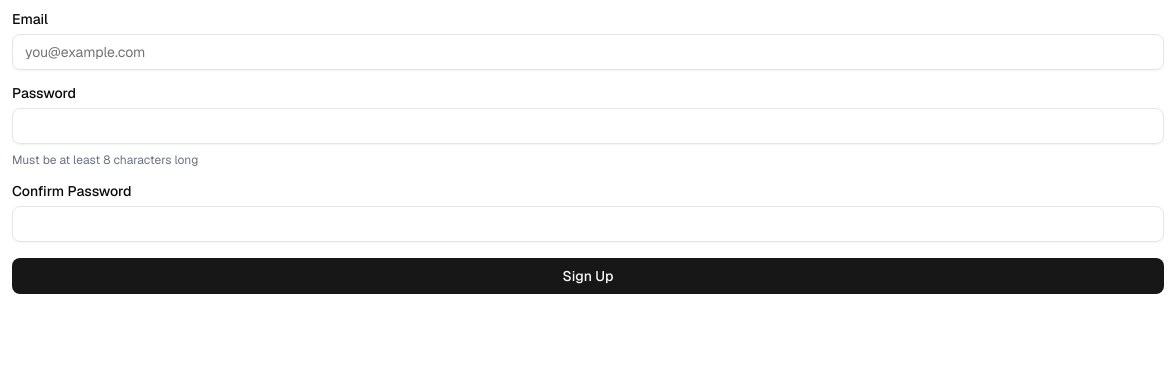
Test: SignUpForm - error handling › shows error message from server on failure
Type "pass1234" into the password field labelled "Password" at (588, 126), box x1=12 y1=108 x2=1164 y2=144
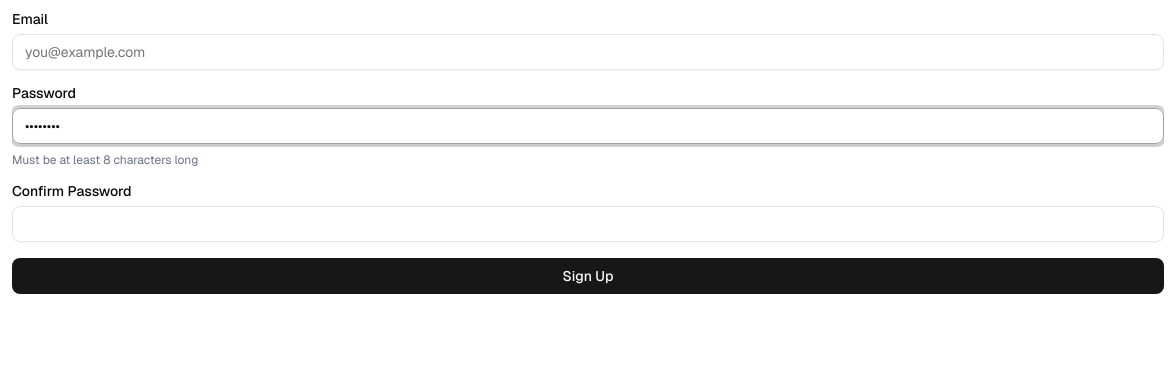
Type "pass1234" into the password field labelled "Confirm Password" at (588, 224), box x1=12 y1=206 x2=1164 y2=242
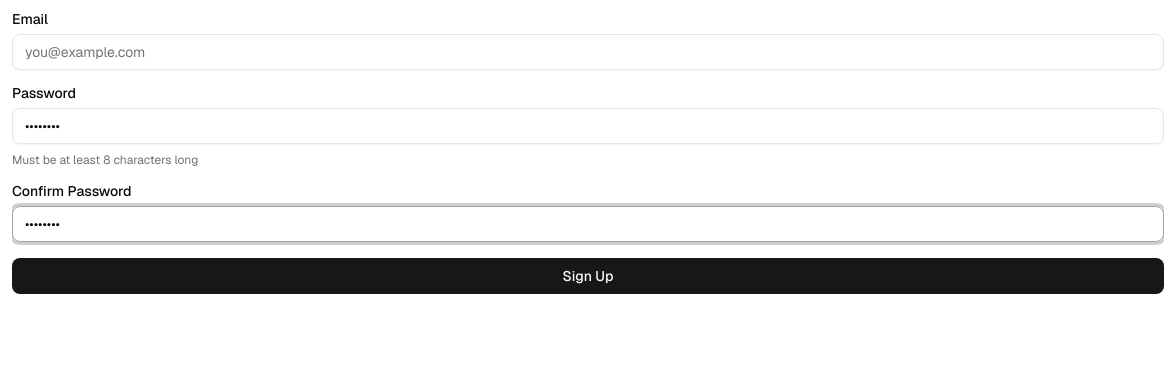
Submit the form "Sign Up"
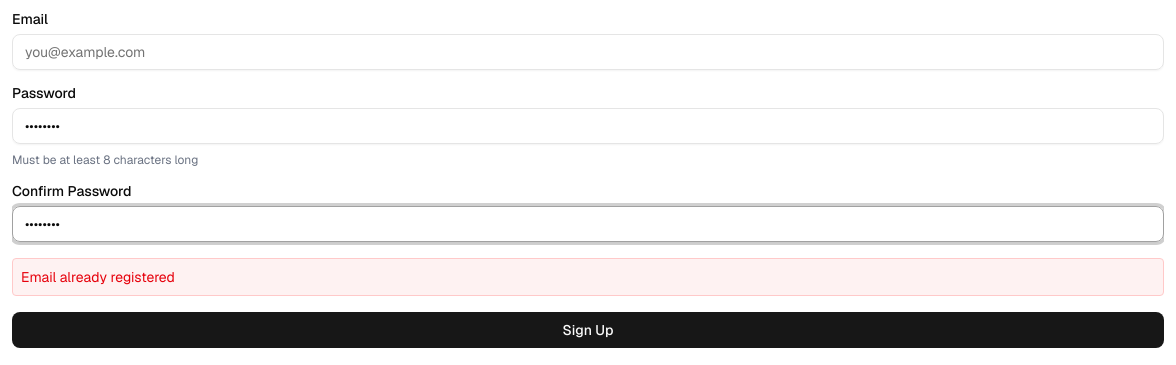
Check: the text "Email already registered" is shown, box x1=12 y1=258 x2=1164 y2=296
